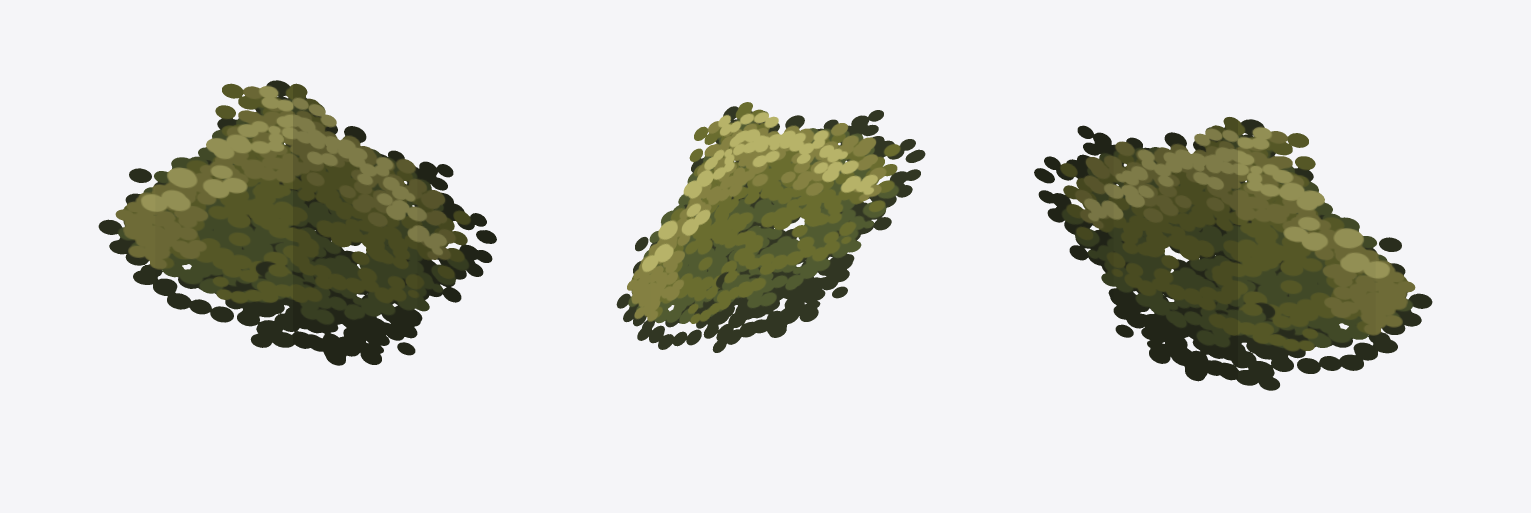
The model's file is bush2.fbx.
The picture shows the model from 3 angles, left to right: view 1: azimuth 90°, elevation 25°; view 2: azimuth 150°, elevation 25°; view 3: azimuth 270°, elevation 25°; orthographic projection. The views are drawn at different scales.
Visible parts, largest first — view 1: bush pack.088; view 2: bush pack.088; view 3: bush pack.088.
Part boxes in pixels (x1,y1,x2,y2): bush pack.088: [98, 80, 496, 365]; bush pack.088: [616, 102, 925, 352]; bush pack.088: [1034, 117, 1432, 390].
Size of the model in its own units: 47.55 by 97.96 by 118.
Materials: 1 (1 with a texture image).
